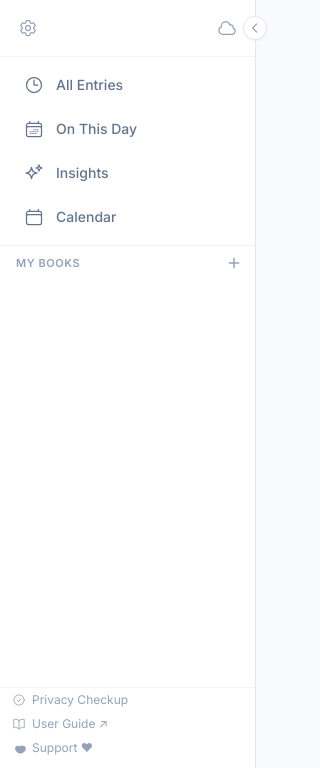
Test case: Sidebar — support link › hides support text but keeps icon when collapsed
Step 1. Click the button named "Collapse sidebar" → (255, 28), box [243,16,267,40]
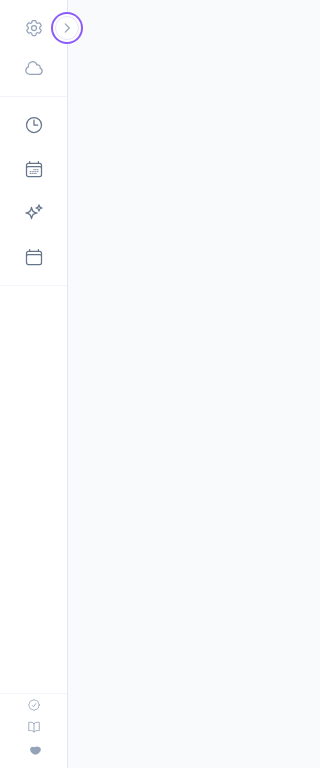
Result: the text "Support ♥" is gone
